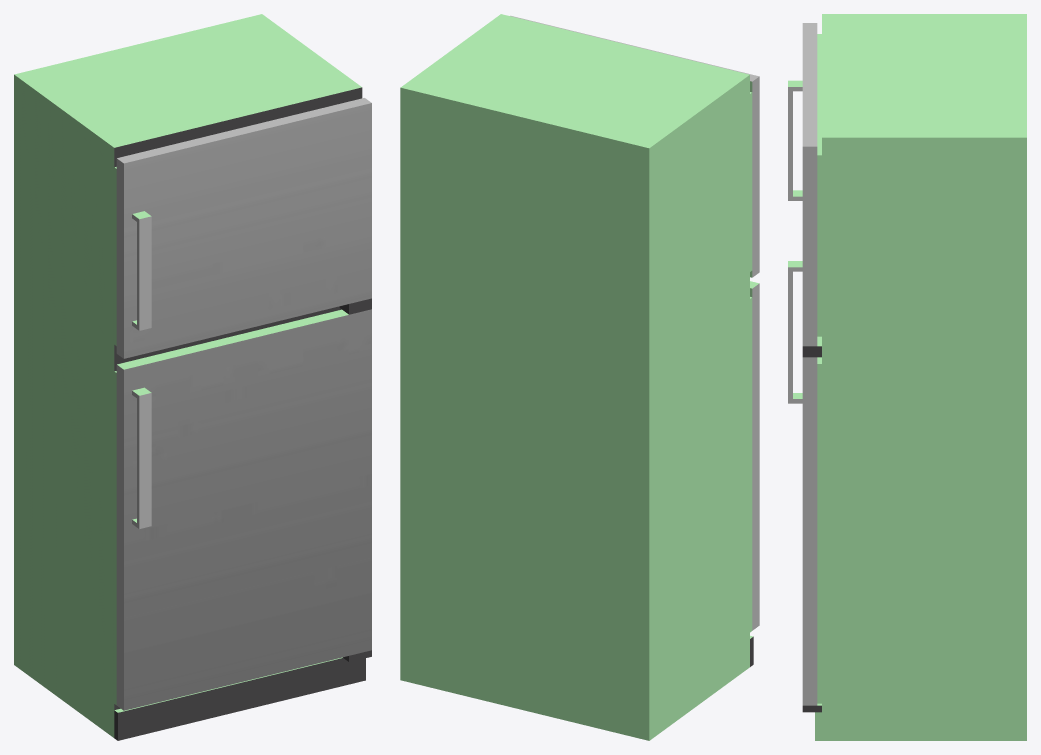
File: r7250_refrigerator_freezer_20_cubic_feet.glb
3 renders of one model, left to right at view 1: azimuth 30°, elevation 25°; view 2: azimuth 150°, elevation 25°; view 3: azimuth 270°, elevation 25°, orthographic. The views are drawn at different scales.
Parts seen in each view (by area): view 1: mesh_3_ROOT__R7250_-_Refrigerator-Freezer,_20_Cubic_Feet_Fri, mesh_0_ROOT__R7250_-_Refrigerator-Freezer,_20_Cubic_Feet_Fri, mesh_4_ROOT__R7250_-_Refrigerator-Freezer,_20_Cubic_Feet_Fri, mesh_1_ROOT__R7250_-_Refrigerator-Freezer,_20_Cubic_Feet_Fri; view 2: mesh_0_ROOT__R7250_-_Refrigerator-Freezer,_20_Cubic_Feet_Fri, mesh_1_ROOT__R7250_-_Refrigerator-Freezer,_20_Cubic_Feet_Fri; view 3: mesh_0_ROOT__R7250_-_Refrigerator-Freezer,_20_Cubic_Feet_Fri, mesh_1_ROOT__R7250_-_Refrigerator-Freezer,_20_Cubic_Feet_Fri.
Part boxes in pixels (left/top/right/bottom): mesh_3_ROOT__R7250_-_Refrigerator-Freezer,_20_Cubic_Feet_Fri: left=124, top=103, right=371, bottom=710; mesh_0_ROOT__R7250_-_Refrigerator-Freezer,_20_Cubic_Feet_Fri: left=14, top=14, right=361, bottom=737; mesh_4_ROOT__R7250_-_Refrigerator-Freezer,_20_Cubic_Feet_Fri: left=114, top=87, right=371, bottom=740; mesh_1_ROOT__R7250_-_Refrigerator-Freezer,_20_Cubic_Feet_Fri: left=116, top=98, right=371, bottom=710; mesh_0_ROOT__R7250_-_Refrigerator-Freezer,_20_Cubic_Feet_Fri: left=400, top=14, right=758, bottom=740; mesh_1_ROOT__R7250_-_Refrigerator-Freezer,_20_Cubic_Feet_Fri: left=510, top=15, right=759, bottom=630; mesh_0_ROOT__R7250_-_Refrigerator-Freezer,_20_Cubic_Feet_Fri: left=788, top=14, right=1026, bottom=740; mesh_1_ROOT__R7250_-_Refrigerator-Freezer,_20_Cubic_Feet_Fri: left=788, top=23, right=817, bottom=705.
Bounding box in the file's own units: 762 × 1734 × 622.
5 materials, 1 textured.
